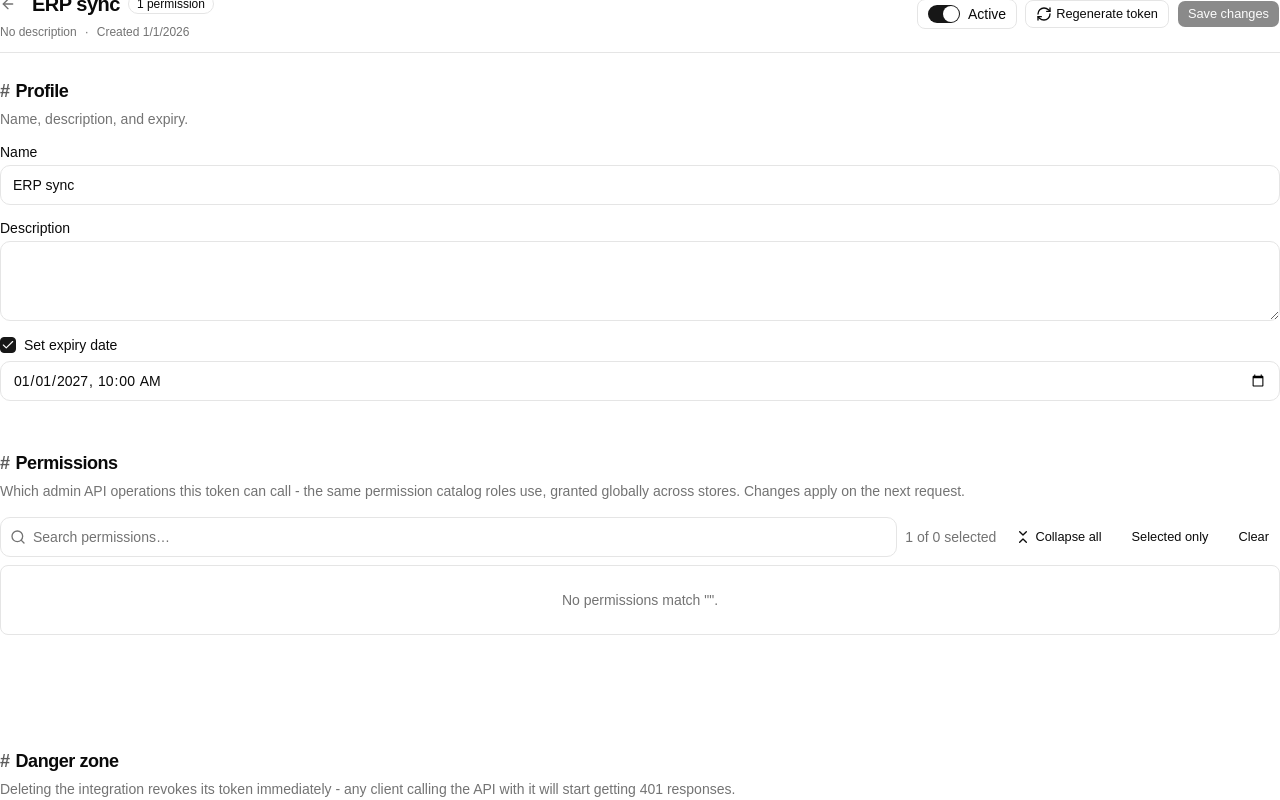
it: IntegrationDetail regenerate token › asks before killing the current token, then shows the new one
Click the button "Regenerate token": [1097, 14] box left=1025, top=0, right=1169, bottom=28
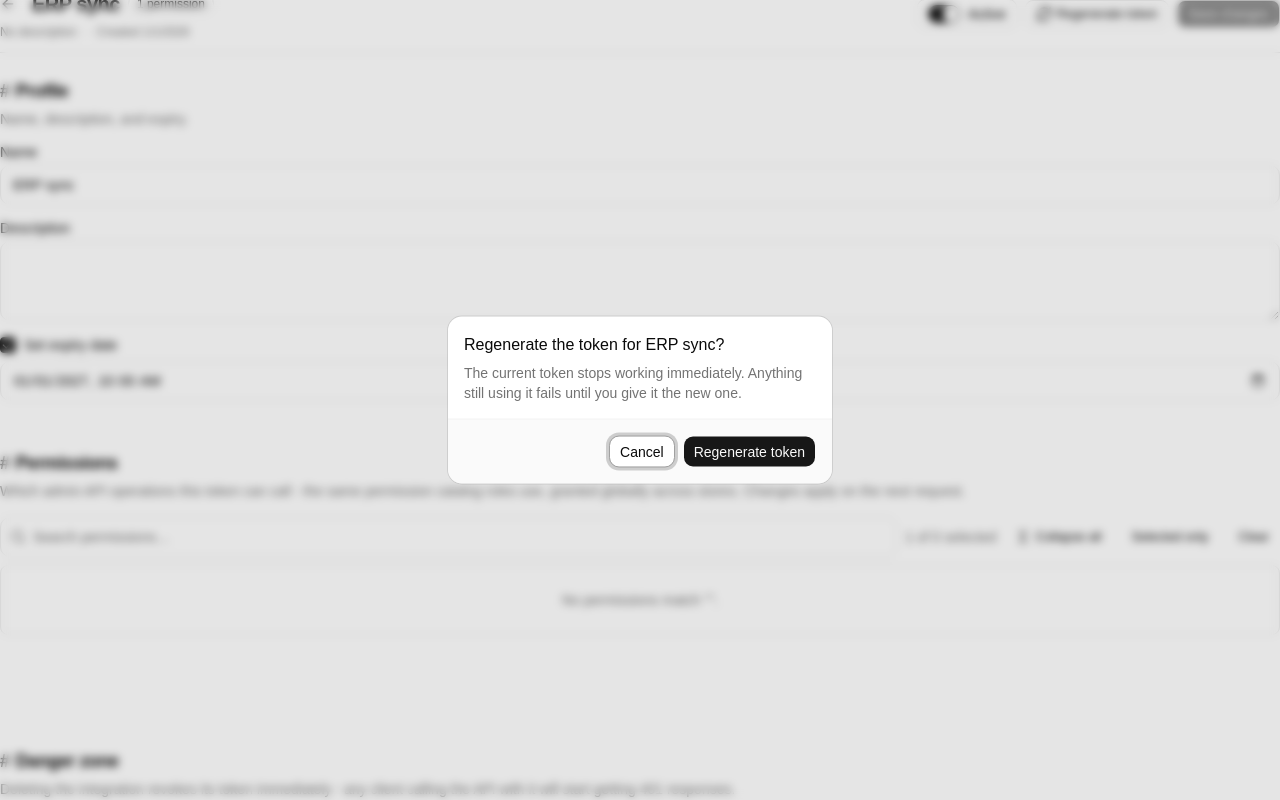
Click the button "Regenerate token": [749, 452] box left=683, top=436, right=816, bottom=468
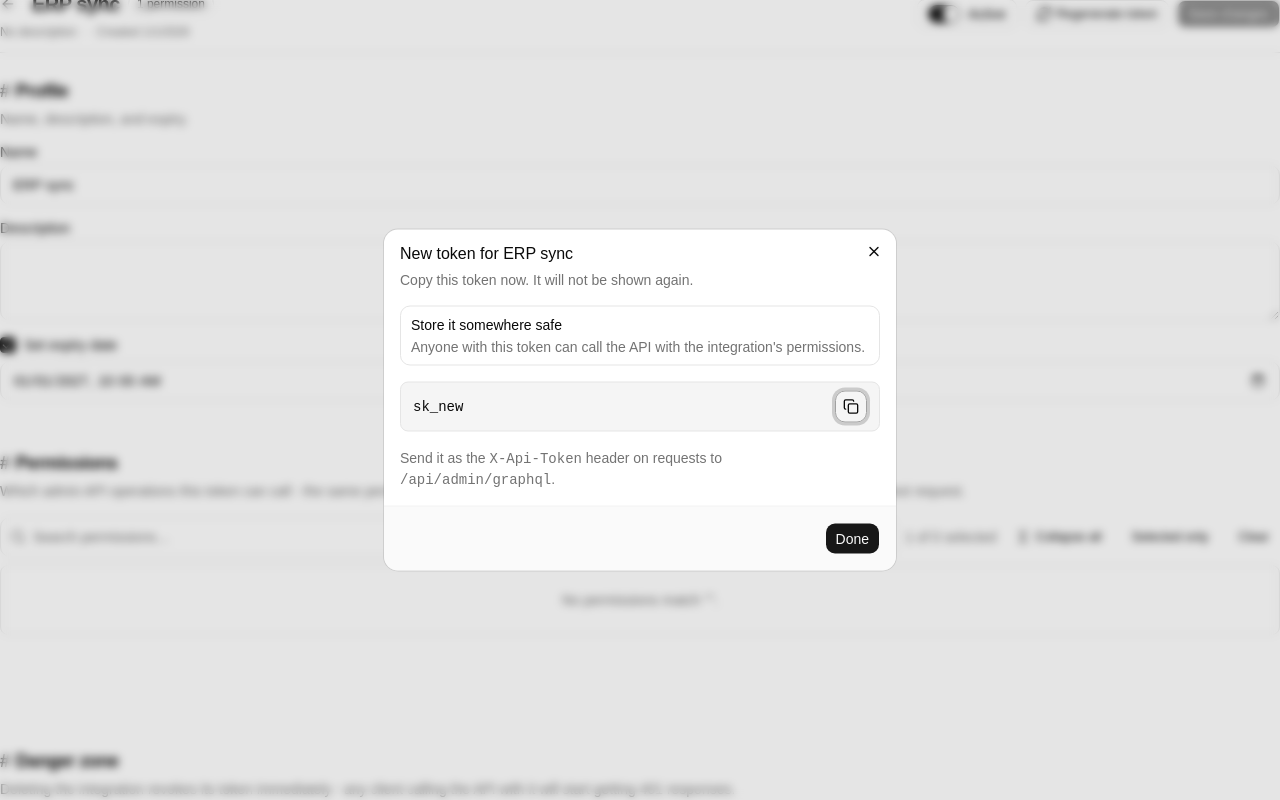
Expected: the text "sk_new" is shown, left=413, top=398, right=463, bottom=414
